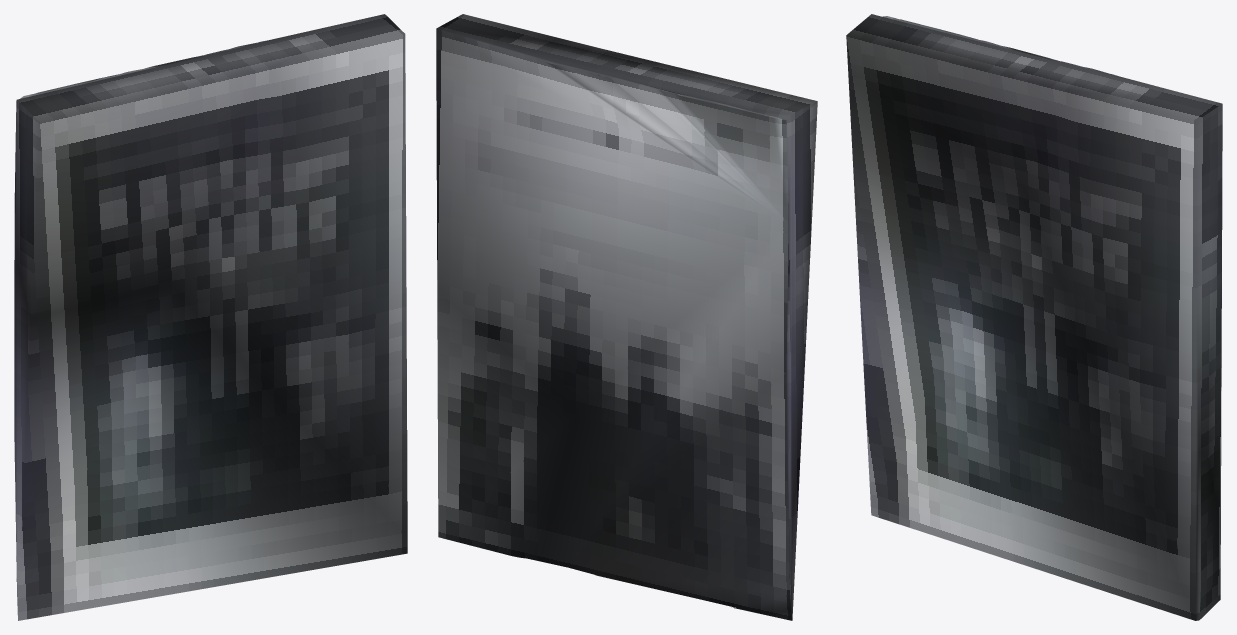
The model's file is House_of_Cards_The_Complete_First_Season_4_Discs_DVD-low.glb.
3 renders of one model, left to right at view 1: azimuth 30°, elevation 25°; view 2: azimuth 150°, elevation 25°; view 3: azimuth 330°, elevation 25°, orthographic. The views are drawn at different scales.
Parts seen in each view (by area): view 1: House_of_Cards_The_Complete_First_Season_4_Discs_DVD; view 2: House_of_Cards_The_Complete_First_Season_4_Discs_DVD; view 3: House_of_Cards_The_Complete_First_Season_4_Discs_DVD.
Boxes of the visible parts, x1,y1,x2,y2 form: House_of_Cards_The_Complete_First_Season_4_Discs_DVD: (14,14,407,620); House_of_Cards_The_Complete_First_Season_4_Discs_DVD: (436,14,817,620); House_of_Cards_The_Complete_First_Season_4_Discs_DVD: (846,14,1222,620).
Bounding box in the file's own units: 0.1398 × 0.19 × 0.0212.
1 material, 1 textured.
